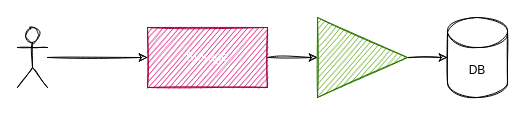
The diagram is 525 pixels wide and 126 high, and some of its shapes have lost their labels. Here are the shapes that lost their labels. From the top down, the box of each, then its label:
(16, 26, 48, 88): User
(316, 16, 408, 98): Function
